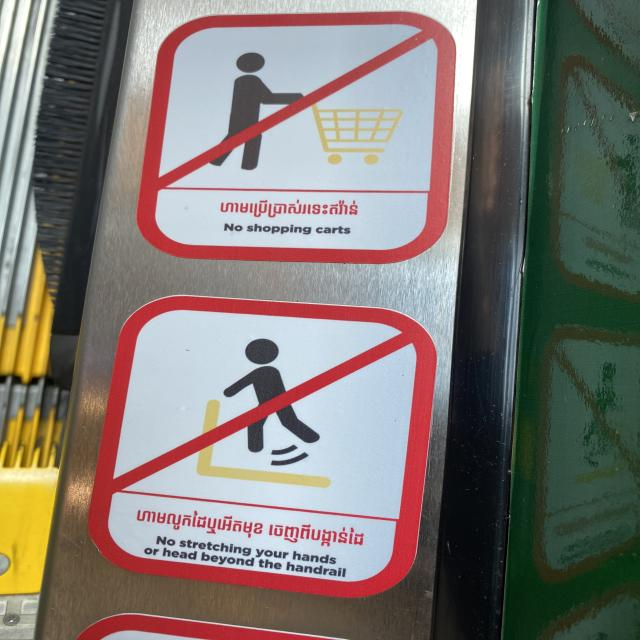1: (133, 504, 369, 554)
Yolov11_80vkh: (216, 199, 362, 220)
